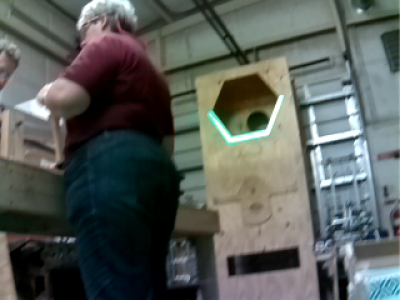target: (206, 94, 285, 145)
